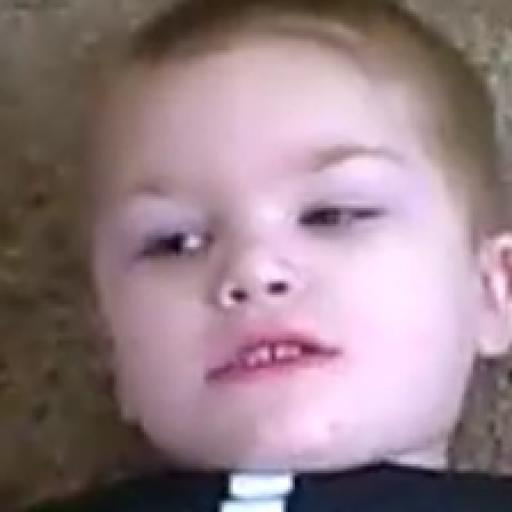Autism: (83, 30, 512, 486)
